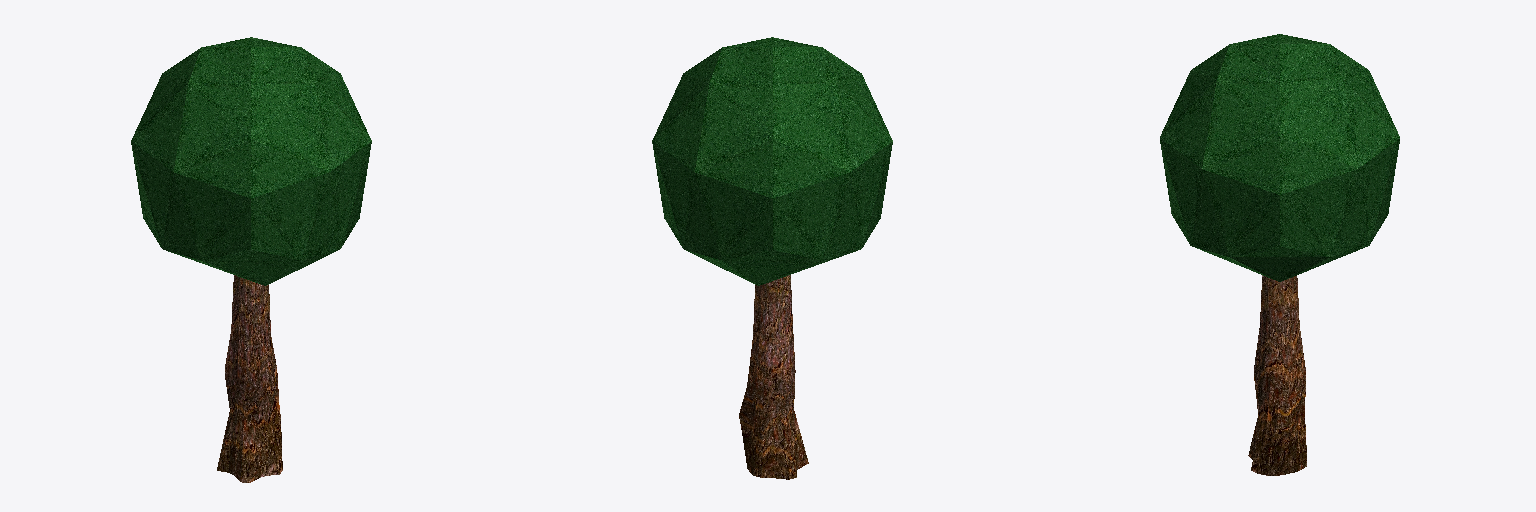
The picture shows the model from 3 angles: view 1: azimuth 30°, elevation 25°; view 2: azimuth 150°, elevation 25°; view 3: azimuth 270°, elevation 25°; orthographic projection.
Visible parts, largest first — view 1: GeoSphere001, Cylinder001; view 2: GeoSphere001, Cylinder001; view 3: GeoSphere001, Cylinder001.
Boxes of the visible parts, x1=… form: GeoSphere001: x1=131, y1=37, x2=371, y2=285; Cylinder001: x1=217, y1=275, x2=282, y2=482; GeoSphere001: x1=652, y1=37, x2=892, y2=285; Cylinder001: x1=739, y1=275, x2=808, y2=479; GeoSphere001: x1=1160, y1=34, x2=1399, y2=281; Cylinder001: x1=1248, y1=275, x2=1306, y2=475.
Bounding box in the file's own units: 5.87 × 11.36 × 5.9.
Materials: 2 (2 with a texture image).